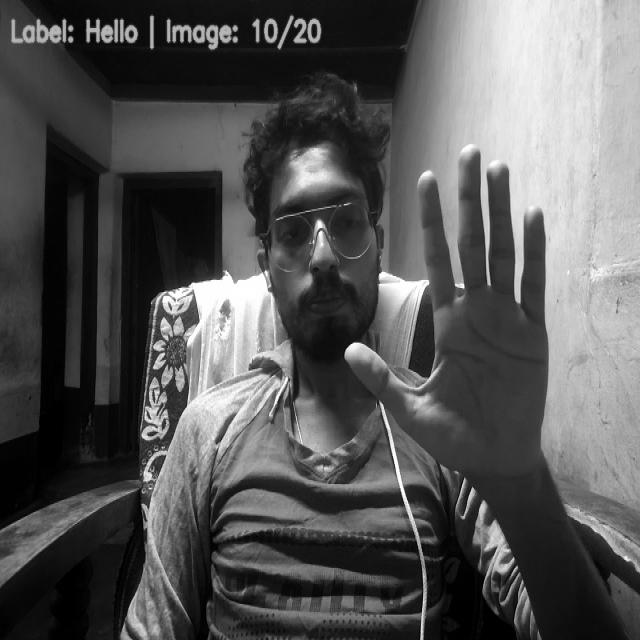Hello: (367, 138, 569, 470)
